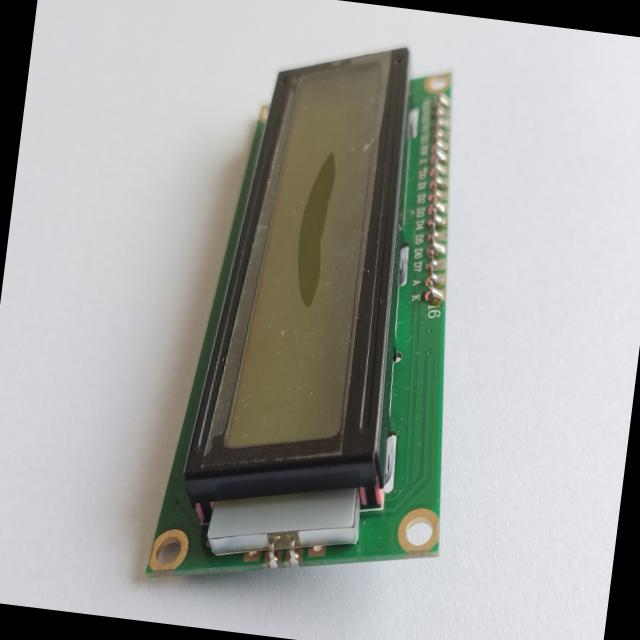lcd: (142, 21, 500, 612)
